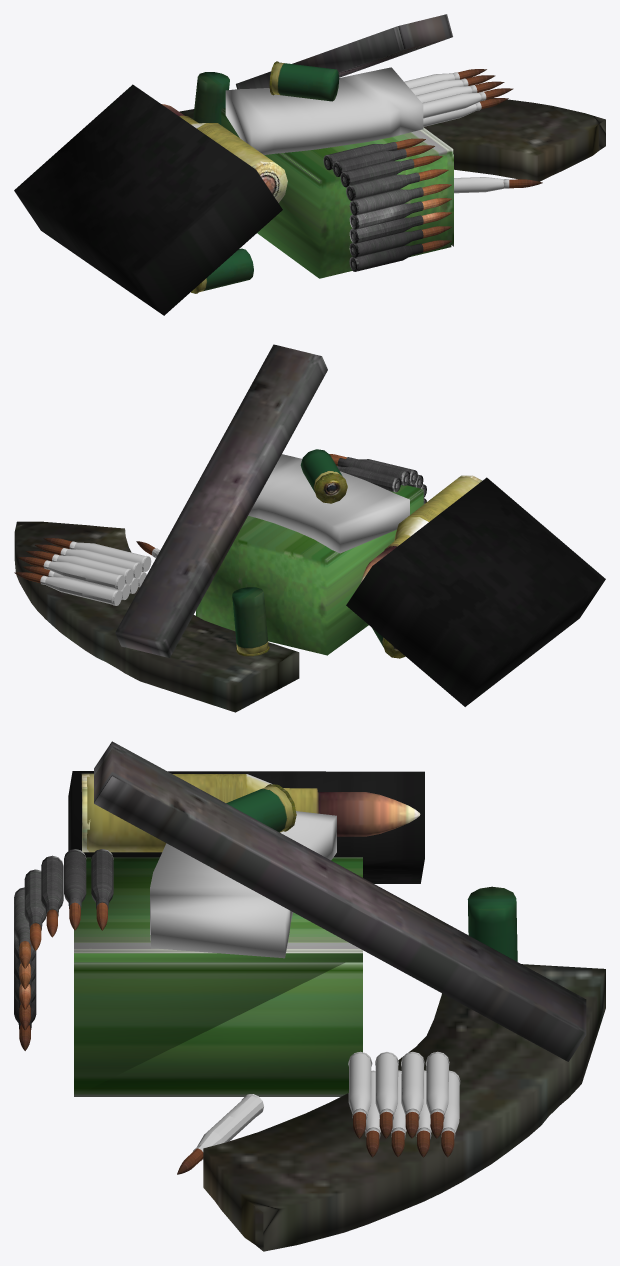
File: stockpile.fbx
The picture shows the model from 3 angles, top to bottom: view 1: azimuth 30°, elevation 25°; view 2: azimuth 150°, elevation 25°; view 3: azimuth 270°, elevation 25°; orthographic projection. The views are drawn at different scales.
Visible parts, largest first — view 1: ntwmag, pkm_magazine, m4_clip, ak47_clip, pkm_belt, uzi_clip, 30-06_shells, shell3, shell4, 14.5shell, shell, pkmprimers (+3 smaller); view 2: ntwmag, uzi_clip, ak47_clip, pkm_magazine, m4_clip, 30-06_shells, shell4, 14.5shell, shell3, pkm_belt, 30-06_bullets, pkmprimers; view 3: pkm_magazine, ak47_clip, uzi_clip, m4_clip, ntwmag, 14.5shell, pkm_belt, 30-06_shells, shell4, 30-06_bullets, shell3, 30-06_shell.
Part boxes in pixels (bbox=[...]): ntwmag: bbox=[14, 84, 282, 315]; pkm_magazine: bbox=[221, 108, 453, 278]; m4_clip: bbox=[225, 67, 423, 154]; ak47_clip: bbox=[179, 98, 605, 181]; pkm_belt: bbox=[328, 138, 451, 271]; uzi_clip: bbox=[236, 14, 452, 89]; 30-06_shells: bbox=[404, 72, 486, 126]; shell3: bbox=[269, 61, 339, 101]; shell4: bbox=[193, 72, 229, 124]; 14.5shell: bbox=[161, 104, 273, 166]; shell: bbox=[191, 248, 253, 293]; pkmprimers: bbox=[323, 155, 359, 271]; ntwmag: bbox=[346, 477, 605, 706]; uzi_clip: bbox=[115, 344, 327, 657]; ak47_clip: bbox=[14, 521, 299, 712]; pkm_magazine: bbox=[196, 485, 423, 655]; m4_clip: bbox=[248, 454, 409, 553]; 30-06_shells: bbox=[40, 541, 151, 605]; shell4: bbox=[232, 587, 269, 656]; 14.5shell: bbox=[361, 476, 479, 582]; shell3: bbox=[300, 449, 347, 503]; pkm_belt: bbox=[329, 454, 418, 491]; 30-06_bullets: bbox=[14, 538, 71, 583]; pkmprimers: bbox=[392, 470, 426, 504]; pkm_magazine: bbox=[74, 857, 362, 1096]; ak47_clip: bbox=[203, 964, 605, 1251]; uzi_clip: bbox=[94, 741, 586, 1061]; m4_clip: bbox=[150, 811, 336, 958]; ntwmag: bbox=[68, 771, 424, 883]; 14.5shell: bbox=[87, 773, 420, 852]; pkm_belt: bbox=[14, 850, 113, 1050]; 30-06_shells: bbox=[348, 1051, 460, 1138]; shell4: bbox=[467, 886, 517, 961]; 30-06_bullets: bbox=[353, 1111, 454, 1157]; shell3: bbox=[226, 784, 296, 832]; 30-06_shell: bbox=[193, 1094, 263, 1161].
Size of the model in its own units: 17.34 by 6.82 by 11.27.
